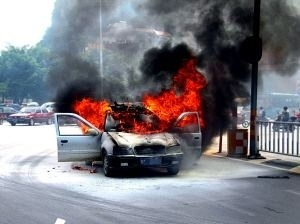fire: (68, 59, 209, 136)
